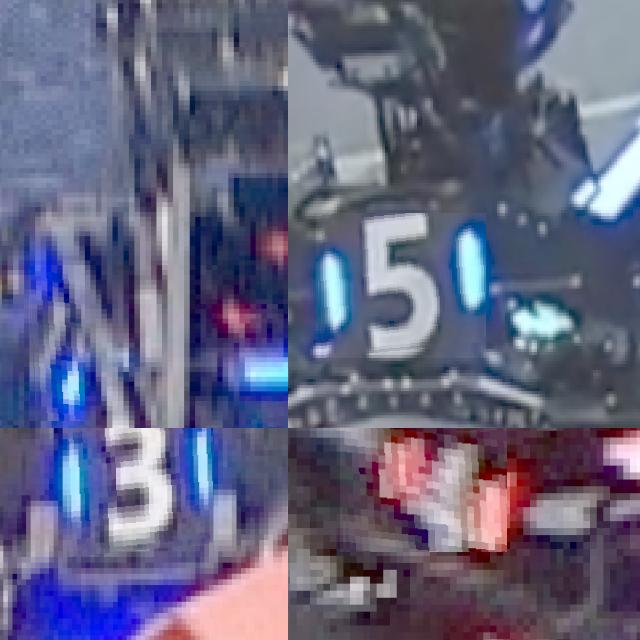B1: (29, 265, 85, 421)
B3: (62, 428, 213, 557)
B5: (316, 213, 486, 358)
R4: (340, 428, 506, 552)
